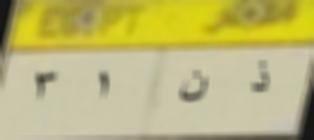1: (88, 63, 127, 106)
3: (24, 62, 69, 107)
noon: (170, 68, 215, 108)
zaal: (244, 56, 279, 101)
